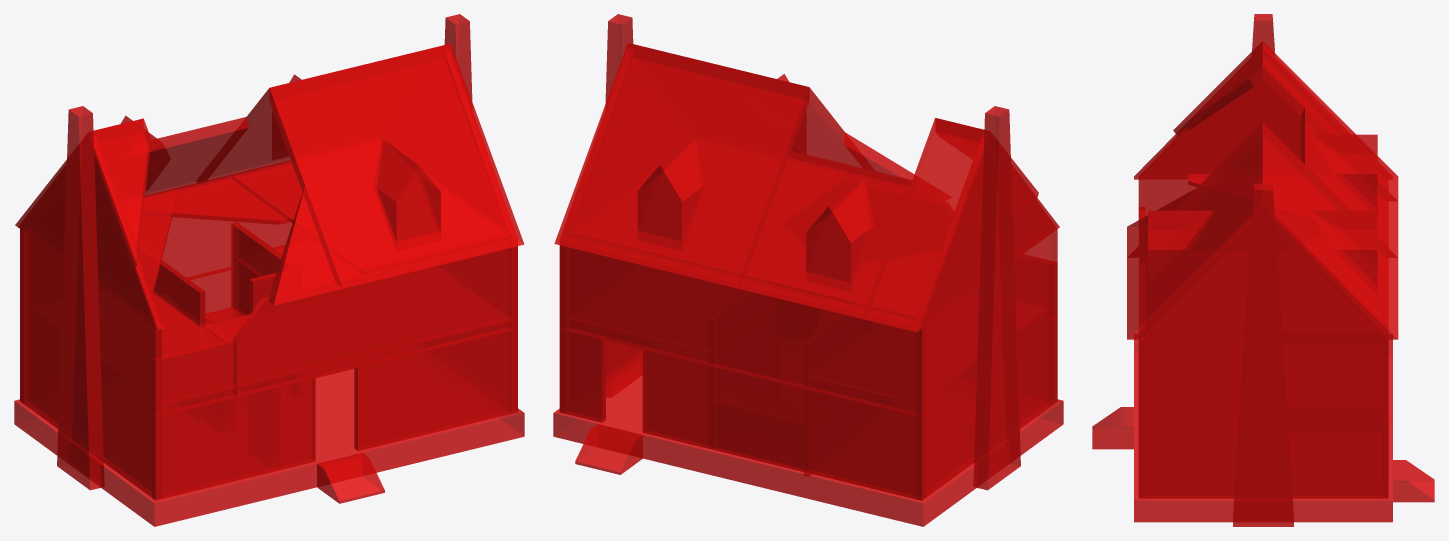
File: SM_Bld_TownHouse_04_Collision.fbx
3 renders of one model, left to right at view 1: azimuth 30°, elevation 25°; view 2: azimuth 150°, elevation 25°; view 3: azimuth 270°, elevation 25°, orthographic. The views are drawn at different scales.
Parts seen in each view (by area): view 1: SM_Bld_TownHouse_04_Collision; view 2: SM_Bld_TownHouse_04_Collision; view 3: SM_Bld_TownHouse_04_Collision.
Boxes of the visible parts, x1,y1,x2,y2 form: SM_Bld_TownHouse_04_Collision: (14, 14, 524, 526); SM_Bld_TownHouse_04_Collision: (553, 14, 1063, 526); SM_Bld_TownHouse_04_Collision: (1092, 14, 1434, 526).
Bounding box in the file's own units: 1262 × 1125 × 1035.
